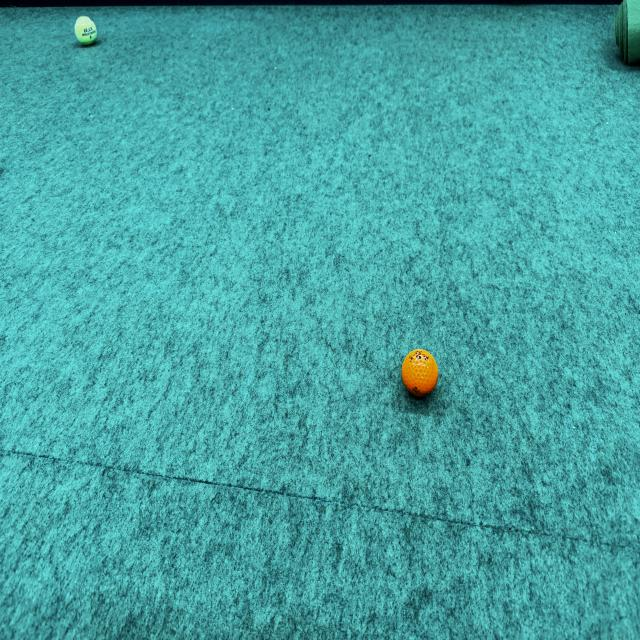ball: (400, 347, 440, 401)
